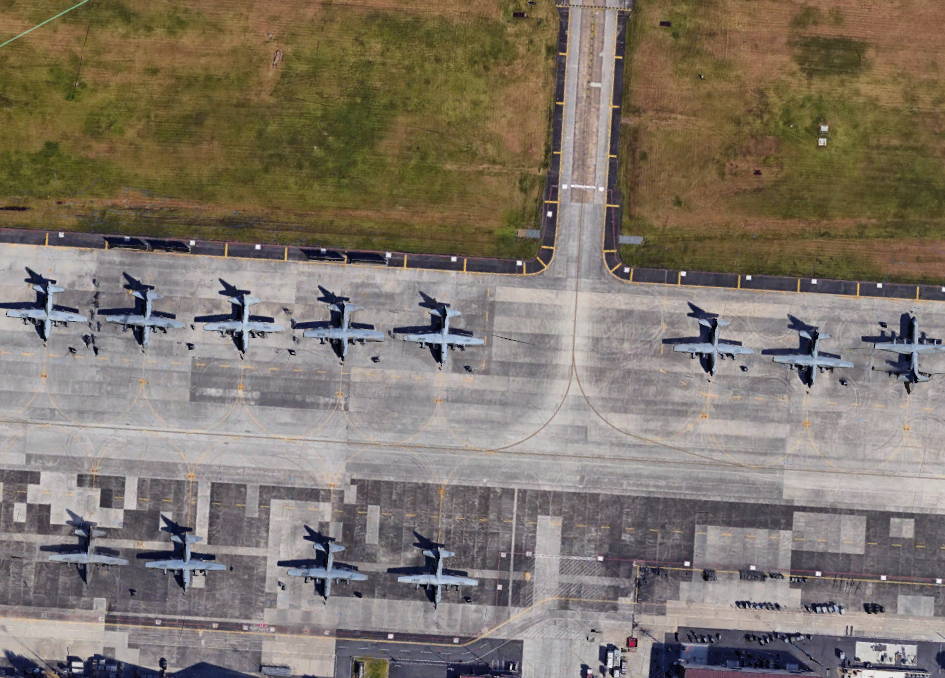A2: (194, 279, 285, 359), (140, 520, 234, 597), (281, 529, 373, 604), (3, 273, 88, 353), (95, 275, 180, 355), (393, 296, 487, 366), (663, 310, 757, 380), (764, 321, 858, 391), (46, 516, 129, 593), (298, 293, 388, 362), (867, 308, 945, 384), (397, 537, 479, 608)
